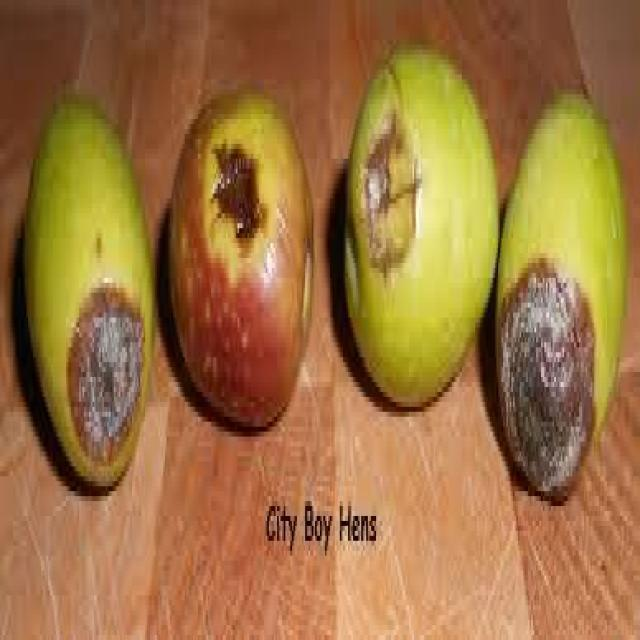Anthracnose: (344, 49, 496, 402), (495, 94, 627, 496), (23, 104, 153, 481), (168, 94, 310, 402)
